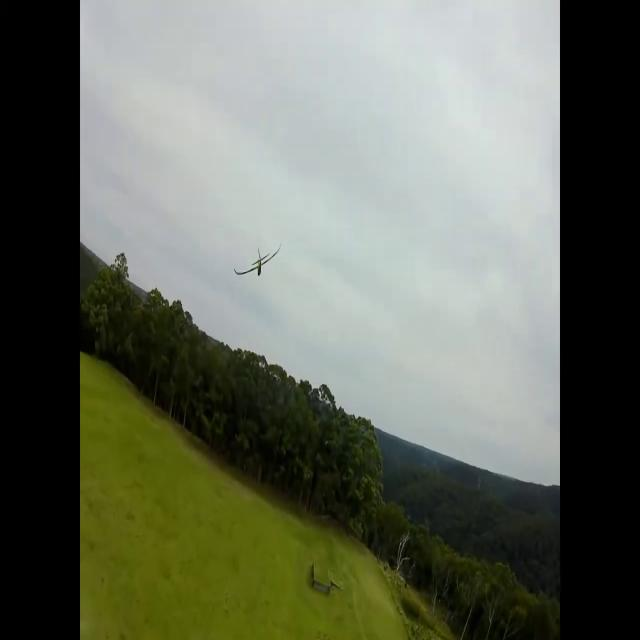iha: (235, 243, 281, 275)
